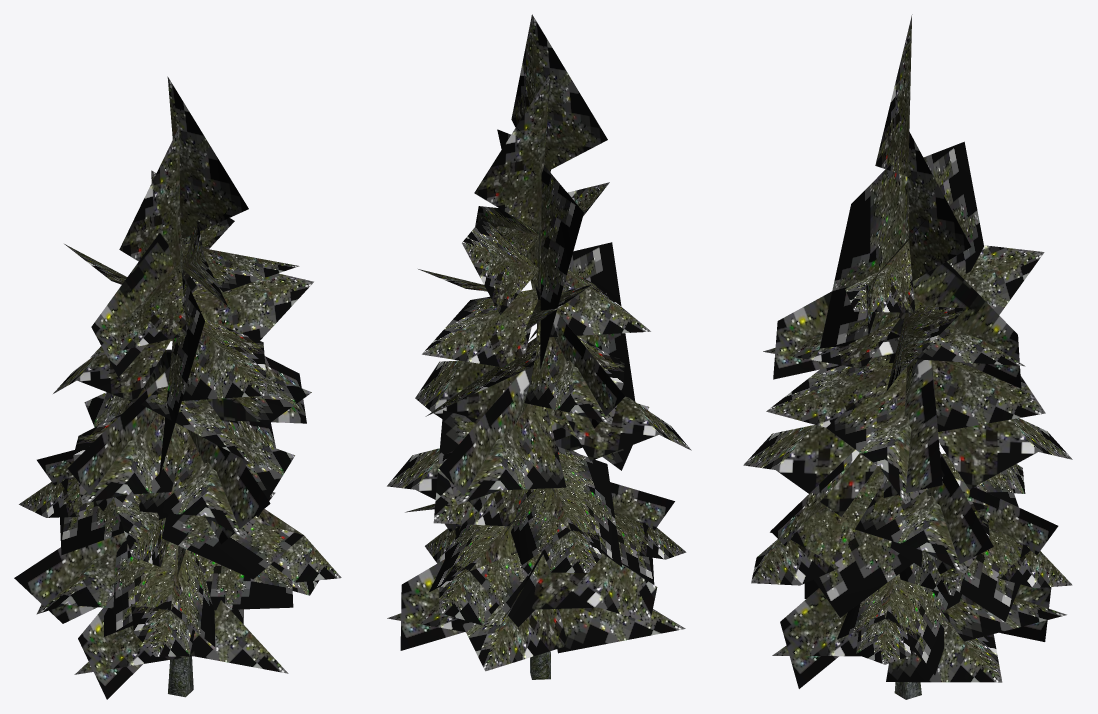
File: treepineforestdeadsnowl03-transformed.glb
3 renders of one model, left to right at view 1: azimuth 30°, elevation 25°; view 2: azimuth 150°, elevation 25°; view 3: azimuth 270°, elevation 25°, orthographic. The views are drawn at different scales.
Visible parts, largest first — view 1: default; view 2: default; view 3: default.
Part boxes in pixels (x1=…): default: x1=14, y1=76, x2=341, y2=699; default: x1=387, y1=14, x2=691, y2=679; default: x1=743, y1=14, x2=1072, y2=699.
Bounding box in the file's own units: 3.96 × 9.24 × 4.31.
2 materials, 2 textured.
